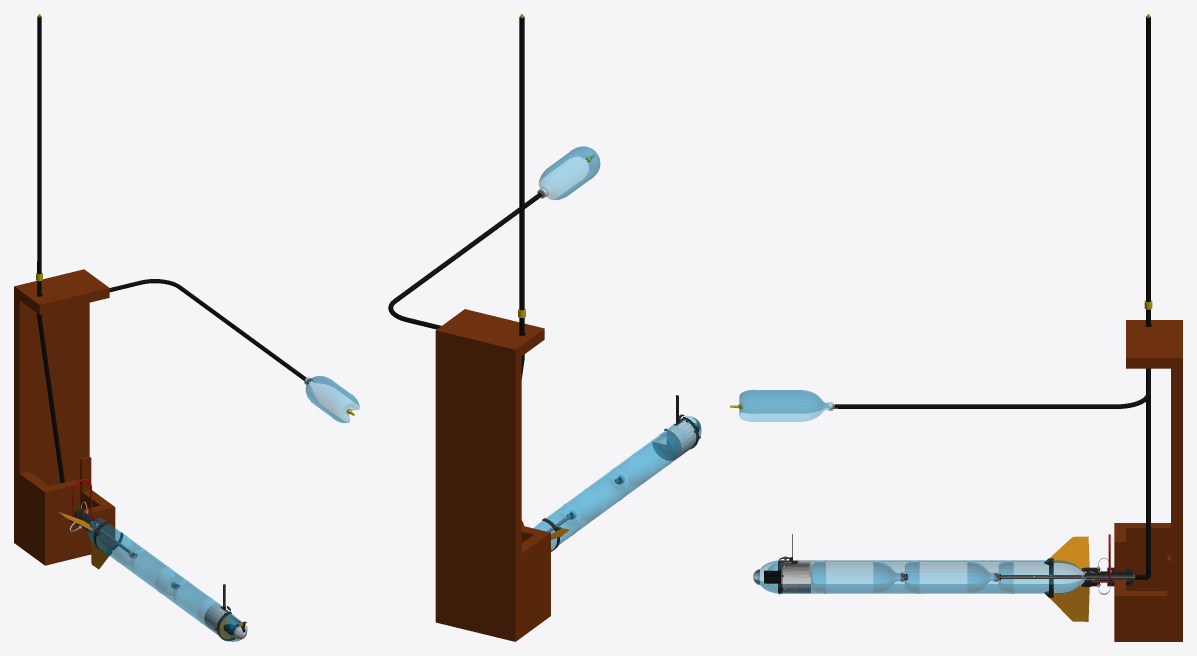
Rendered from launch_assy_3quater.obj.
The picture shows the model from 3 angles, left to right: view 1: azimuth 30°, elevation 25°; view 2: azimuth 150°, elevation 25°; view 3: azimuth 270°, elevation 25°; orthographic projection. The views are drawn at different scales.
Parts seen in each view (by area): view 1: W1-1Base002_(Meshed), Cut076_(Meshed), W1-4_Face002_(Meshed), W1-2Cote003_(Meshed), Cut100_(Meshed), Cut072_(Meshed), X13-4_Tuyau_Valve_Anti_Retour_Valve_gonflage002_(Meshed), Cut042_(Meshed), Cut095_(Meshed), Cut055_(Meshed), X12-1_Tuyau_T_fusee002_(Meshed), Cut075_(Meshed) (+3 smaller); view 2: W1-1Base002_(Meshed), W1-2Cote003_(Meshed), W1-4_Face002_(Meshed), Cut100_(Meshed), X13-4_Tuyau_Valve_Anti_Retour_Valve_gonflage002_(Meshed), Cut072_(Meshed), Cut055_(Meshed), Cut095_(Meshed), Cut059_(Meshed), Cut073_(Meshed), Cut042_(Meshed), Cut065_(Meshed) (+3 smaller); view 3: W1-1Base002_(Meshed), Cut055_(Meshed), Cut072_(Meshed), Cut100_(Meshed), W1-2Cote003_(Meshed), Cut075_(Meshed), Cut042_(Meshed), W1-4_Face002_(Meshed), Cut095_(Meshed), Cut059_(Meshed), X13-4_Tuyau_Valve_Anti_Retour_Valve_gonflage002_(Meshed), Cut073_(Meshed) (+6 smaller).
Part boxes in pixels (x1,y1,x2,y2): W1-1Base002_(Meshed): (14, 269, 89, 546); Cut076_(Meshed): (39, 480, 115, 565); W1-4_Face002_(Meshed): (19, 273, 109, 314); W1-2Cote003_(Meshed): (19, 471, 48, 561); Cut100_(Meshed): (305, 376, 359, 422); Cut072_(Meshed): (130, 549, 183, 595); X13-4_Tuyau_Valve_Anti_Retour_Valve_gonflage002_(Meshed): (37, 16, 41, 274); Cut042_(Meshed): (88, 518, 141, 564); Cut095_(Meshed): (109, 279, 306, 380); Cut055_(Meshed): (173, 580, 215, 624); X12-1_Tuyau_T_fusee002_(Meshed): (37, 313, 64, 483); Cut075_(Meshed): (80, 456, 109, 509); W1-1Base002_(Meshed): (435, 326, 521, 641); W1-2Cote003_(Meshed): (521, 534, 544, 636); W1-4_Face002_(Meshed): (442, 309, 544, 355); Cut100_(Meshed): (539, 146, 600, 199); X13-4_Tuyau_Valve_Anti_Retour_Valve_gonflage002_(Meshed): (519, 16, 524, 310); Cut072_(Meshed): (569, 468, 629, 521); Cut055_(Meshed): (617, 433, 677, 485); Cut095_(Meshed): (388, 192, 541, 329); Cut059_(Meshed): (596, 453, 649, 501); Cut073_(Meshed): (548, 488, 600, 536); Cut042_(Meshed): (534, 503, 581, 550); Cut065_(Meshed): (644, 418, 697, 466); W1-1Base002_(Meshed): (1171, 320, 1182, 641); Cut055_(Meshed): (811, 560, 903, 593); Cut072_(Meshed): (904, 560, 997, 593); Cut100_(Meshed): (739, 389, 831, 421); W1-2Cote003_(Meshed): (1126, 523, 1170, 590); Cut075_(Meshed): (1126, 555, 1170, 641); Cut042_(Meshed): (998, 560, 1090, 593); W1-4_Face002_(Meshed): (1126, 320, 1170, 368); Cut095_(Meshed): (835, 368, 1150, 408); Cut059_(Meshed): (873, 560, 919, 593); X13-4_Tuyau_Valve_Anti_Retour_Valve_gonflage002_(Meshed): (1146, 16, 1150, 302); Cut073_(Meshed): (967, 560, 1013, 593).
Size of the model in its own units: 607 by 2094 by 1444.
